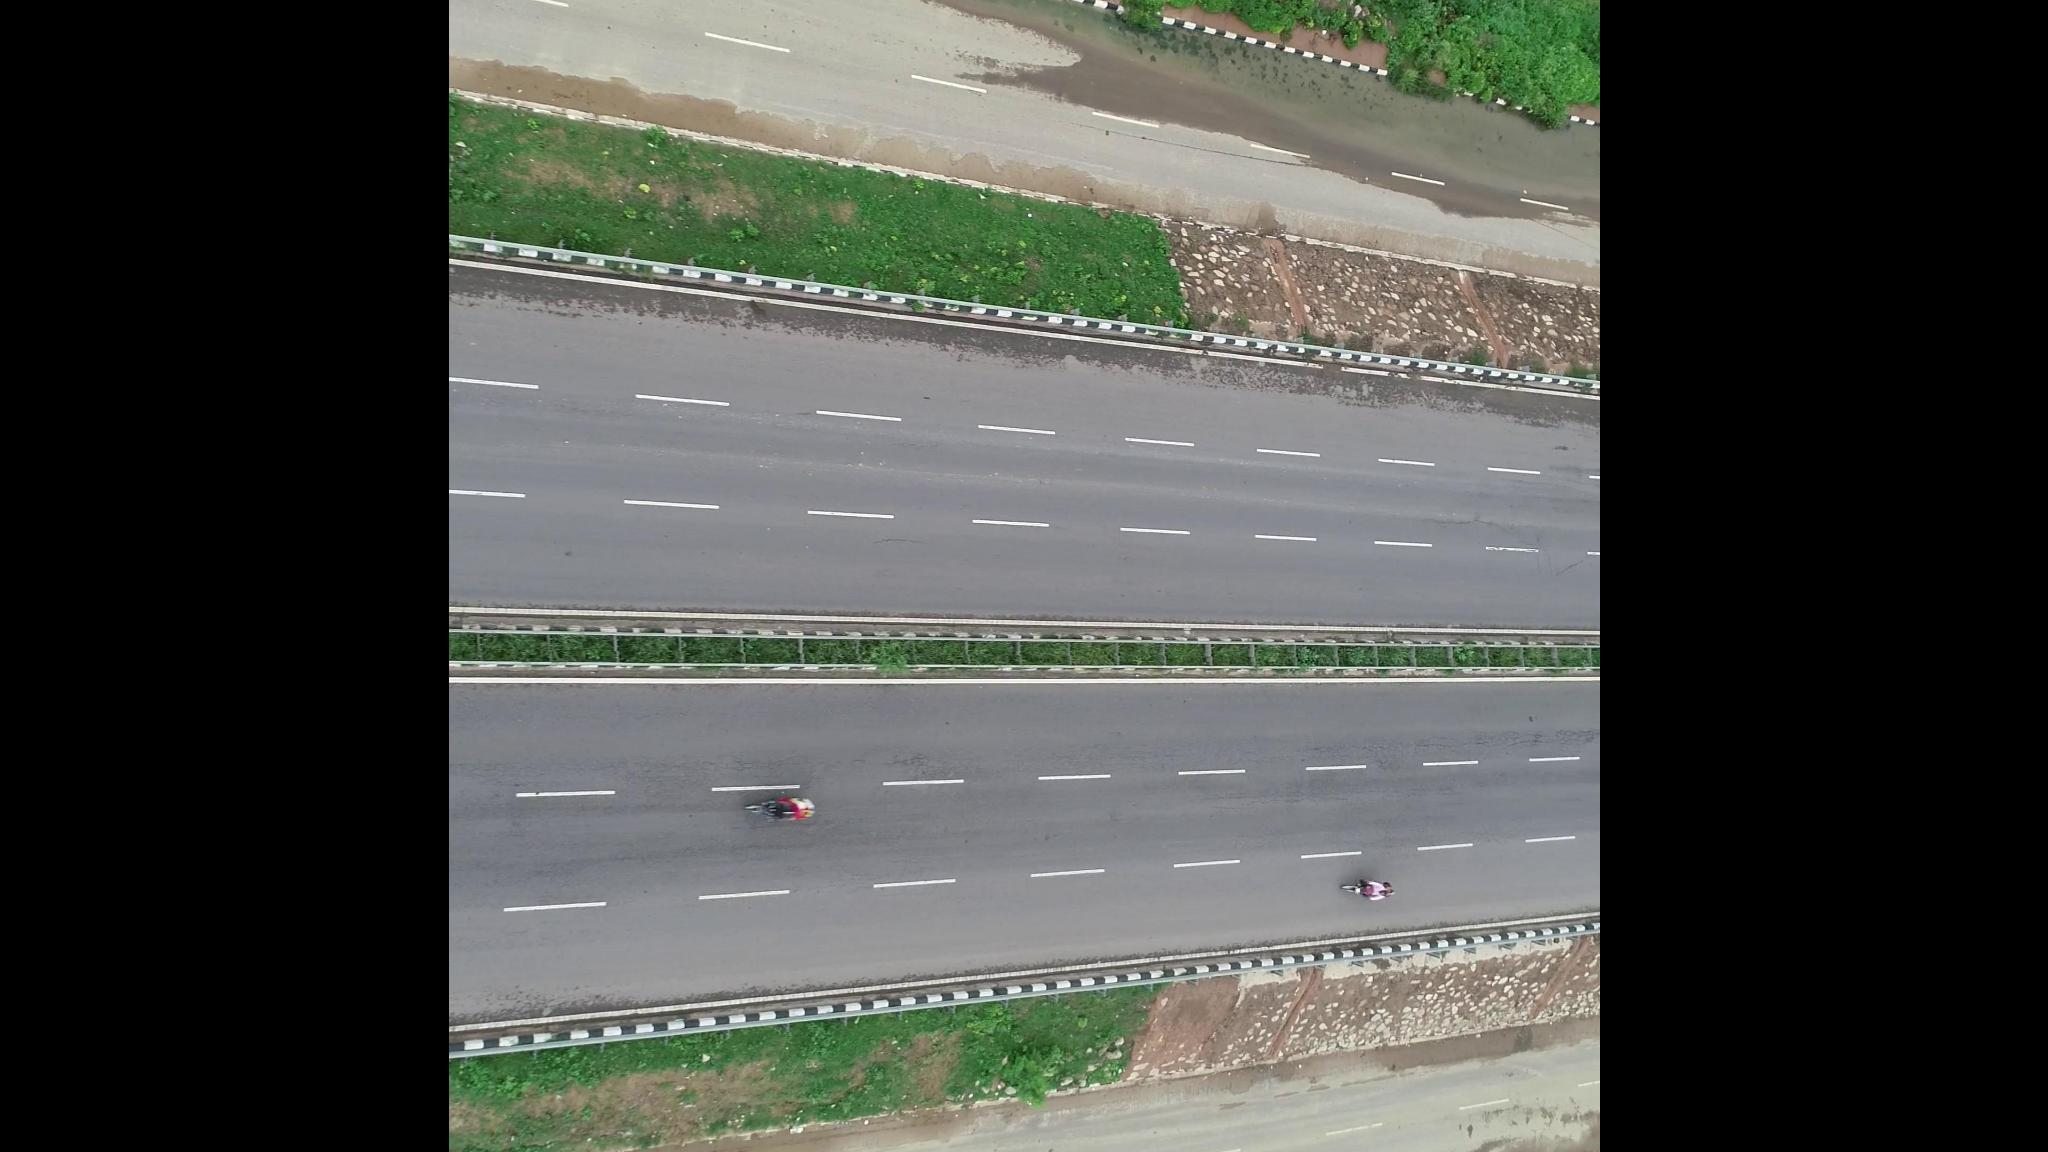Cracks: (1329, 734, 1588, 758)
